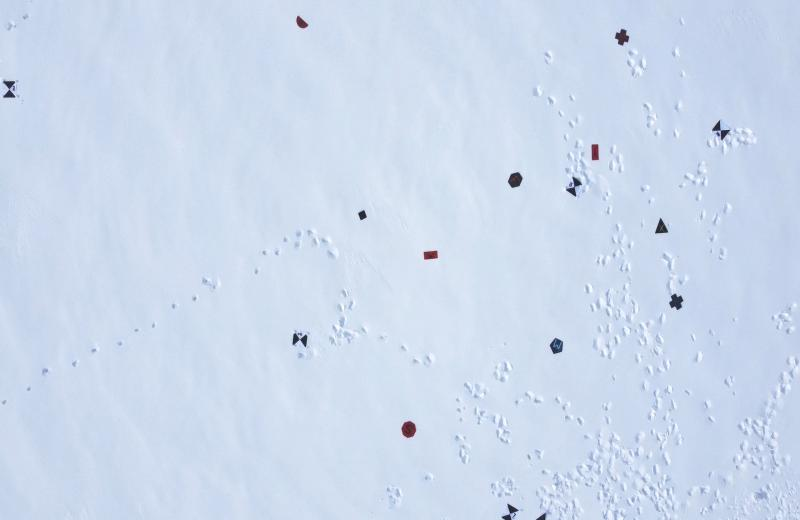Cross: (668, 292, 683, 311), (616, 28, 631, 45)
Hexagon: (507, 171, 523, 189)
Octagon: (399, 420, 417, 440)
Pentagon: (549, 337, 564, 356)
Rectangle: (590, 143, 600, 163), (422, 248, 438, 260)
Semi Circle: (295, 15, 309, 29)
Square: (357, 210, 367, 221)
Triangle: (654, 217, 670, 236)
